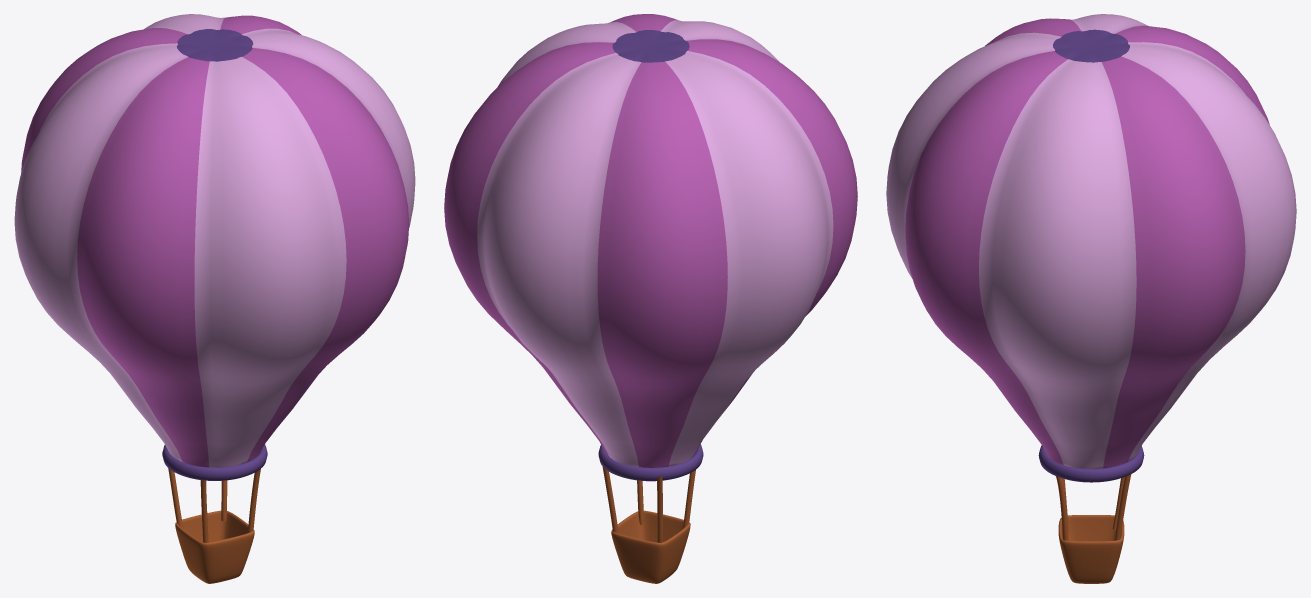
Rendered from Balloon05.fbx.
3 views of the same model, side by side, from view 1: azimuth 30°, elevation 25°; view 2: azimuth 150°, elevation 25°; view 3: azimuth 270°, elevation 25° (orthographic).
Parts seen in each view (by area): view 1: BézierCurve.001; view 2: BézierCurve.001; view 3: BézierCurve.001.
Boxes of the visible parts, x1,y1,x2,y2 form: BézierCurve.001: (14,14,415,583); BézierCurve.001: (444,14,857,583); BézierCurve.001: (886,14,1296,583).
Size of the model in its own units: 291 by 416 by 291.
